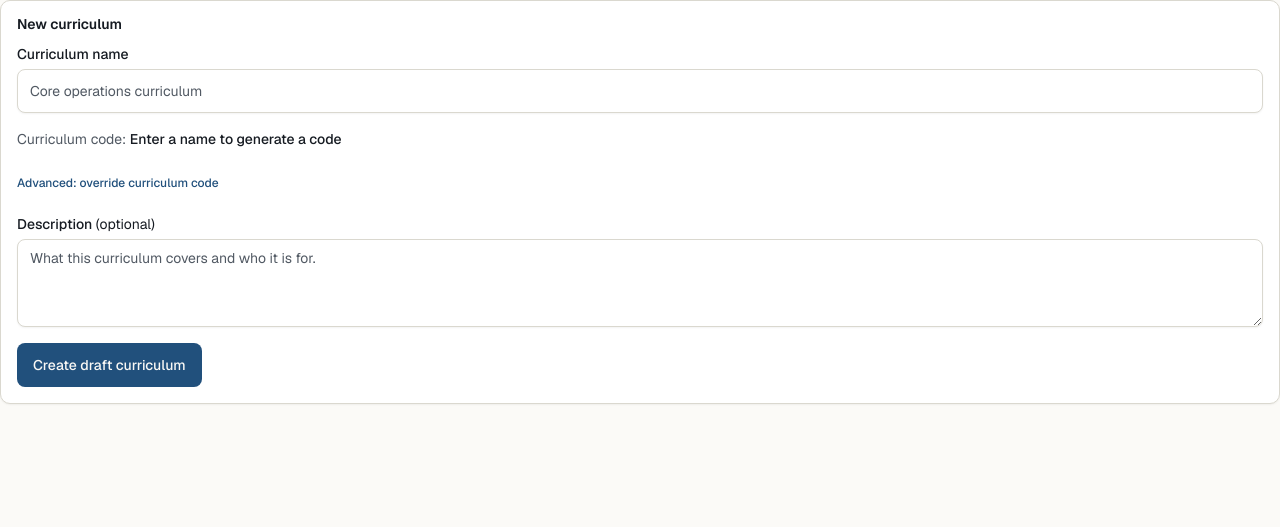
Test: CurriculumCreateForm › previews a generated code and blocks duplicate custom codes
Type "Core Operations" into the field with test id "training-curriculum-name-input" at (640, 91), box [17, 69, 1263, 113]
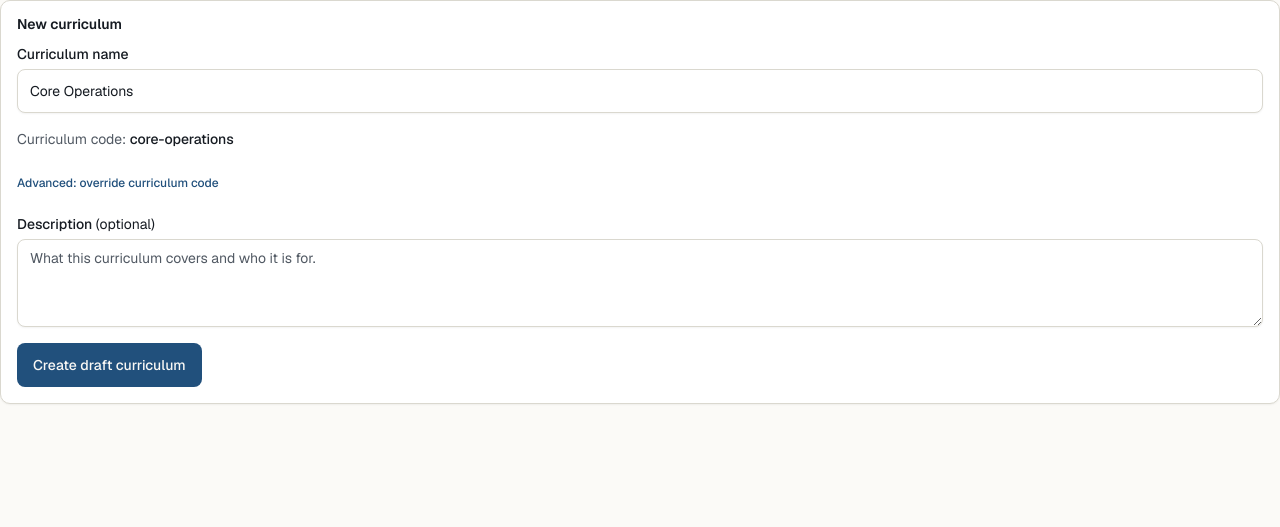
Check: the element with test id "training-curriculum-auto-code-preview" shows "core-operations", box [130, 130, 234, 148]
Click the button with test id "training-curriculum-custom-code-toggle" at (118, 183), box [17, 165, 219, 201]
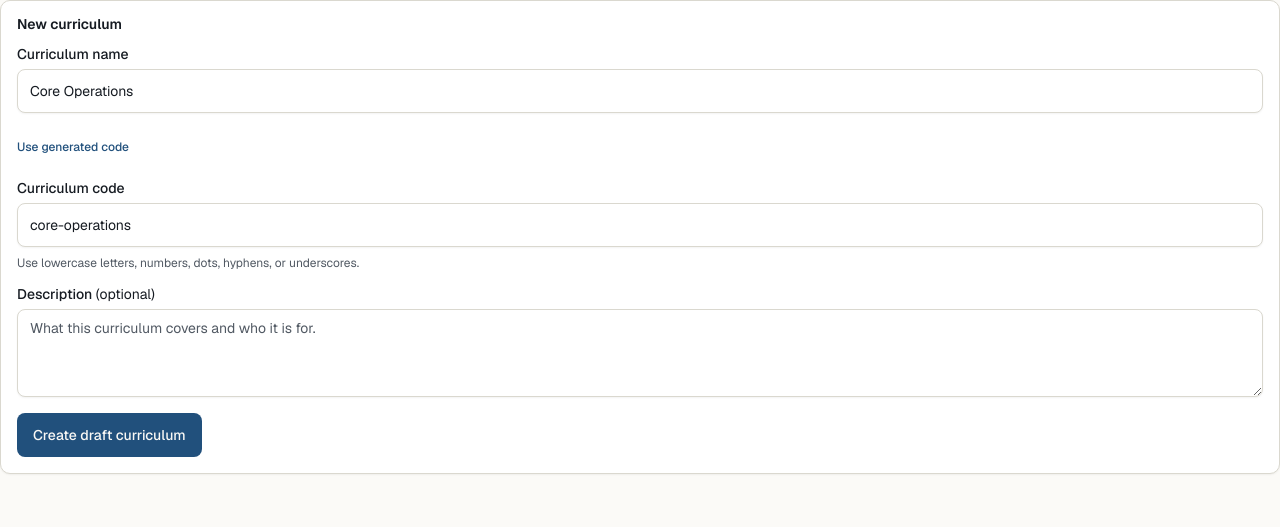
Replace the text in the field with test id "training-curriculum-custom-code-input" with "apex-curriculum" at (640, 225), box [17, 203, 1263, 247]
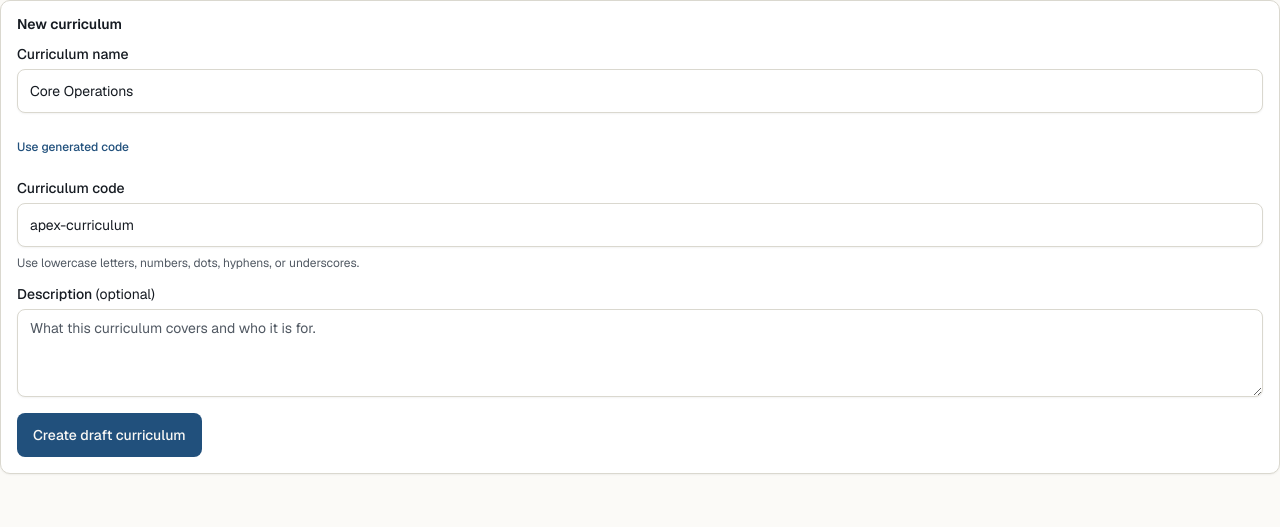
Submit the form with test id "training-curriculum-create-form"
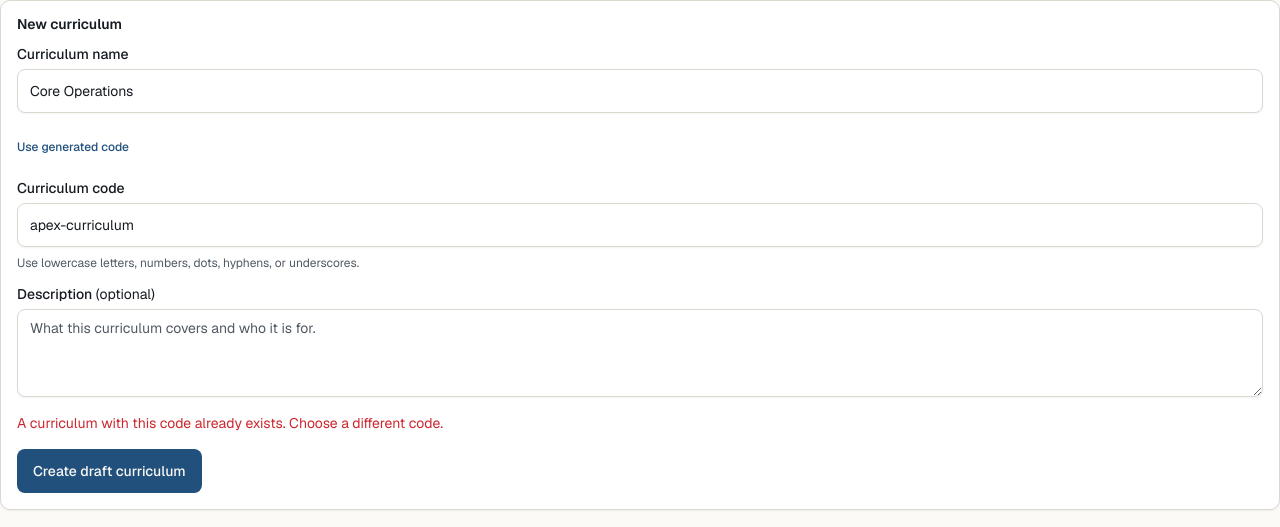
Check: the message with test id "training-curriculum-create-error" shows "A curriculum with this code already exists", box [17, 414, 443, 432]
